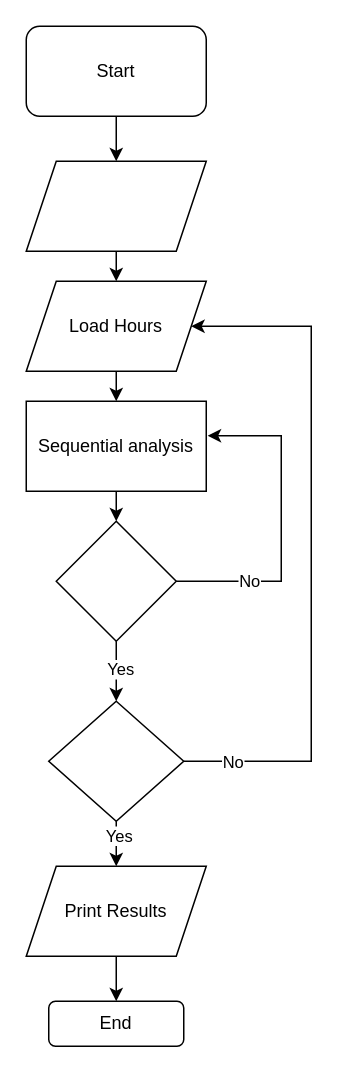
Image size: 350x1073. Some labels were removed from this diagram. The centre of each missing label's shape, as x and y in pixels:
"Is Number of hours exceeded?" belongs at pixel 115 760.
"Is Number of Index exceeded?" belongs at pixel 115 580.
"Load Data and Parameters" belongs at pixel 115 205.
